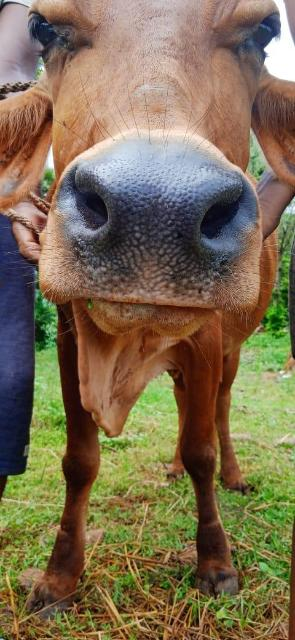Muzzle: (83, 158, 212, 298)
